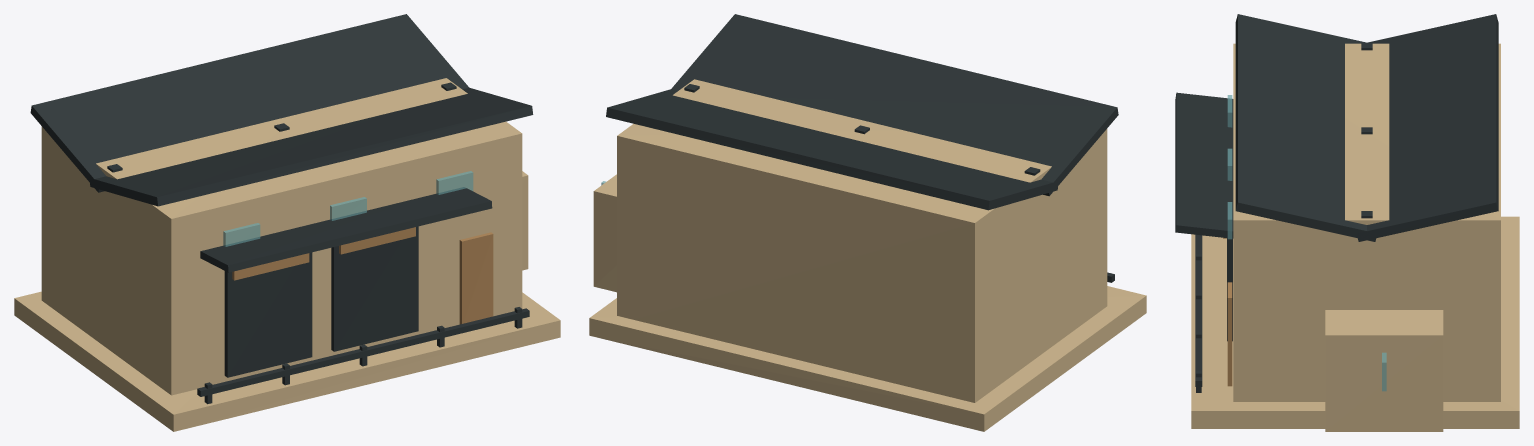
The model's file is Wholesale-Depot.glb.
3 renders of one model, left to right at view 1: azimuth 30°, elevation 25°; view 2: azimuth 150°, elevation 25°; view 3: azimuth 270°, elevation 25°, orthographic. The views are drawn at different scales.
Parts seen in each view (by area): view 1: wholesale-depot-static-wholesale-depot-charcoal-frame-and-ra, wholesale-depot-static-wholesale-depot-cream-panels, wholesale-depot-static-wholesale-depot-pale-concrete, wholesale-depot-static-wholesale-depot-muted-teal-doors, wholesale-depot-static-wholesale-depot-high-window-glass; view 2: wholesale-depot-static-wholesale-depot-cream-panels, wholesale-depot-static-wholesale-depot-charcoal-frame-and-ra, wholesale-depot-static-wholesale-depot-pale-concrete; view 3: wholesale-depot-static-wholesale-depot-cream-panels, wholesale-depot-static-wholesale-depot-charcoal-frame-and-ra, wholesale-depot-static-wholesale-depot-pale-concrete, wholesale-depot-static-wholesale-depot-high-window-glass, wholesale-depot-static-wholesale-depot-muted-teal-doors.
Part boxes in pixels (x1,y1,x2,y2): wholesale-depot-static-wholesale-depot-charcoal-frame-and-ra: (30, 14, 533, 404); wholesale-depot-static-wholesale-depot-cream-panels: (41, 78, 528, 395); wholesale-depot-static-wholesale-depot-pale-concrete: (14, 291, 560, 431); wholesale-depot-static-wholesale-depot-muted-teal-doors: (232, 227, 493, 324); wholesale-depot-static-wholesale-depot-high-window-glass: (223, 171, 473, 246); wholesale-depot-static-wholesale-depot-cream-panels: (593, 79, 1107, 402); wholesale-depot-static-wholesale-depot-charcoal-frame-and-ra: (606, 14, 1118, 282); wholesale-depot-static-wholesale-depot-pale-concrete: (589, 286, 1146, 431); wholesale-depot-static-wholesale-depot-cream-panels: (1233, 43, 1500, 431); wholesale-depot-static-wholesale-depot-charcoal-frame-and-ra: (1175, 14, 1498, 392); wholesale-depot-static-wholesale-depot-pale-concrete: (1191, 216, 1519, 428); wholesale-depot-static-wholesale-depot-high-window-glass: (1227, 95, 1386, 391); wholesale-depot-static-wholesale-depot-muted-teal-doors: (1223, 237, 1232, 386).
Bounding box in the file's own units: 9.09 × 4.28 × 5.98.
